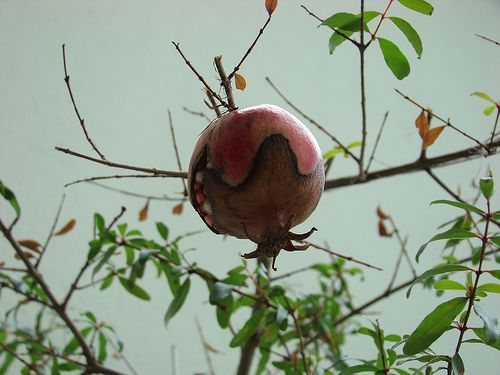pomogranate: (192, 106, 325, 272)
